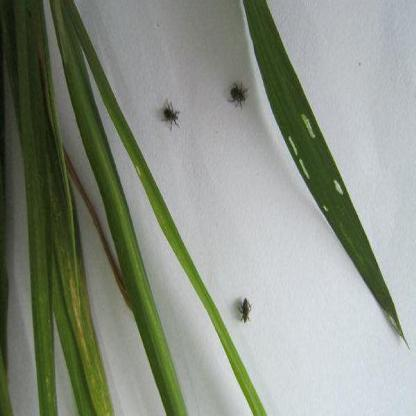rice-bug: (228, 78, 249, 112), (162, 99, 181, 134), (236, 294, 256, 326)
